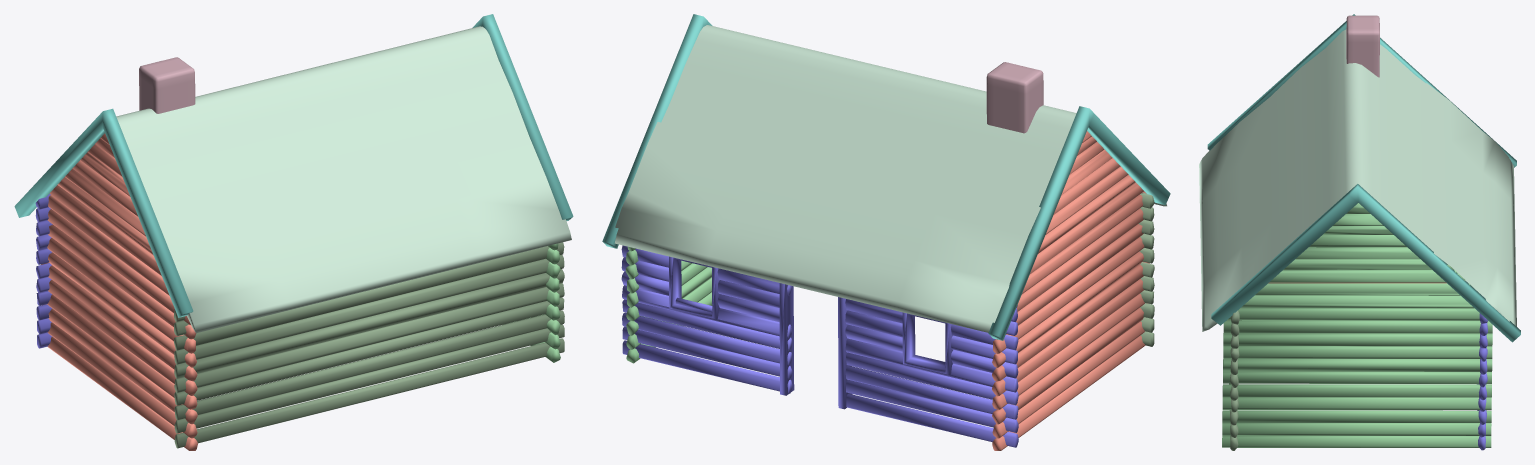
File: SM_Domek_Wioska_Sołtys.FBX
The picture shows the model from 3 angles, left to right: view 1: azimuth 30°, elevation 25°; view 2: azimuth 150°, elevation 25°; view 3: azimuth 270°, elevation 25°; orthographic projection. The views are drawn at different scales.
Visible parts, largest first — view 1: SM_Domek_Wioska_Sołtys; view 2: SM_Domek_Wioska_Sołtys; view 3: SM_Domek_Wioska_Sołtys.
Boxes of the visible parts, x1=… form: SM_Domek_Wioska_Sołtys: x1=14, y1=14, x2=573, y2=450; SM_Domek_Wioska_Sołtys: x1=602, y1=14, x2=1170, y2=450; SM_Domek_Wioska_Sołtys: x1=1199, y1=14, x2=1520, y2=450.
Size of the model in its own units: 799 by 622 by 609.
